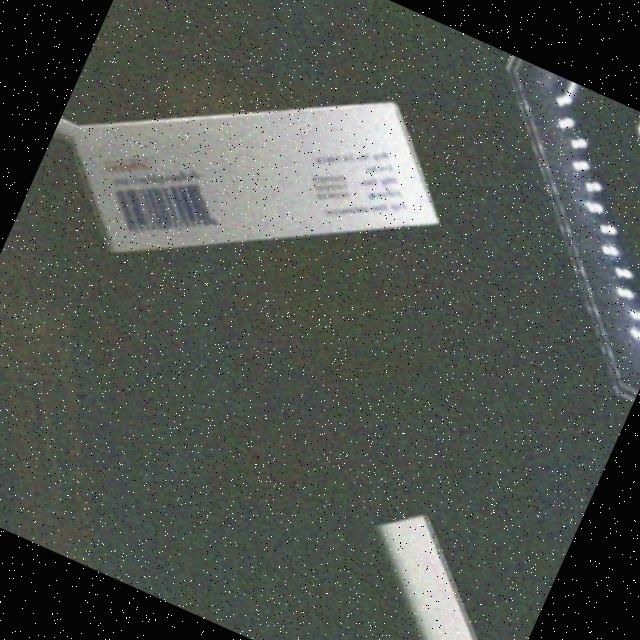sefloc: (29, 0, 473, 369)
